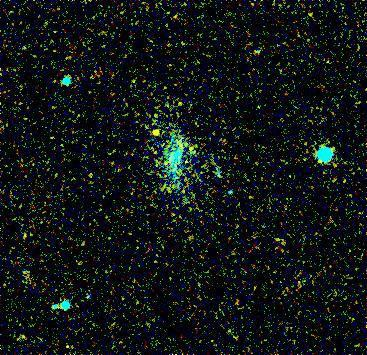star: (143, 116, 173, 146)
